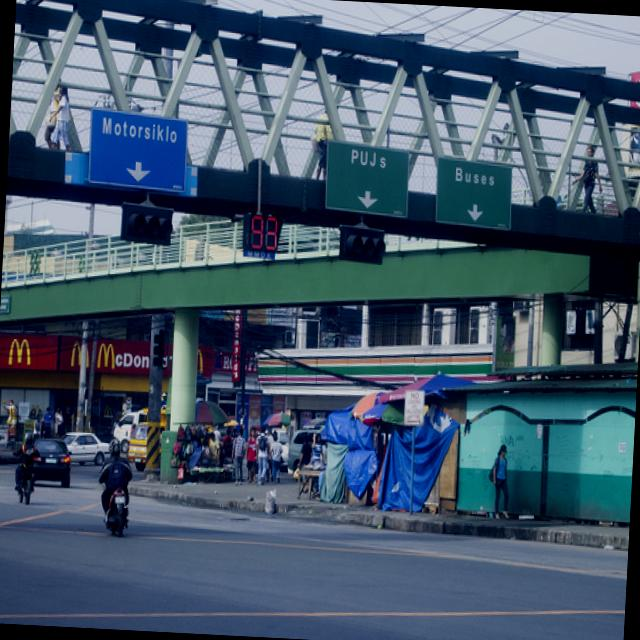Vehicle: (32, 438, 73, 488), (59, 432, 114, 466), (10, 452, 41, 505), (101, 486, 131, 540), (288, 428, 321, 472), (125, 421, 148, 474), (274, 429, 290, 472), (108, 437, 121, 457)
